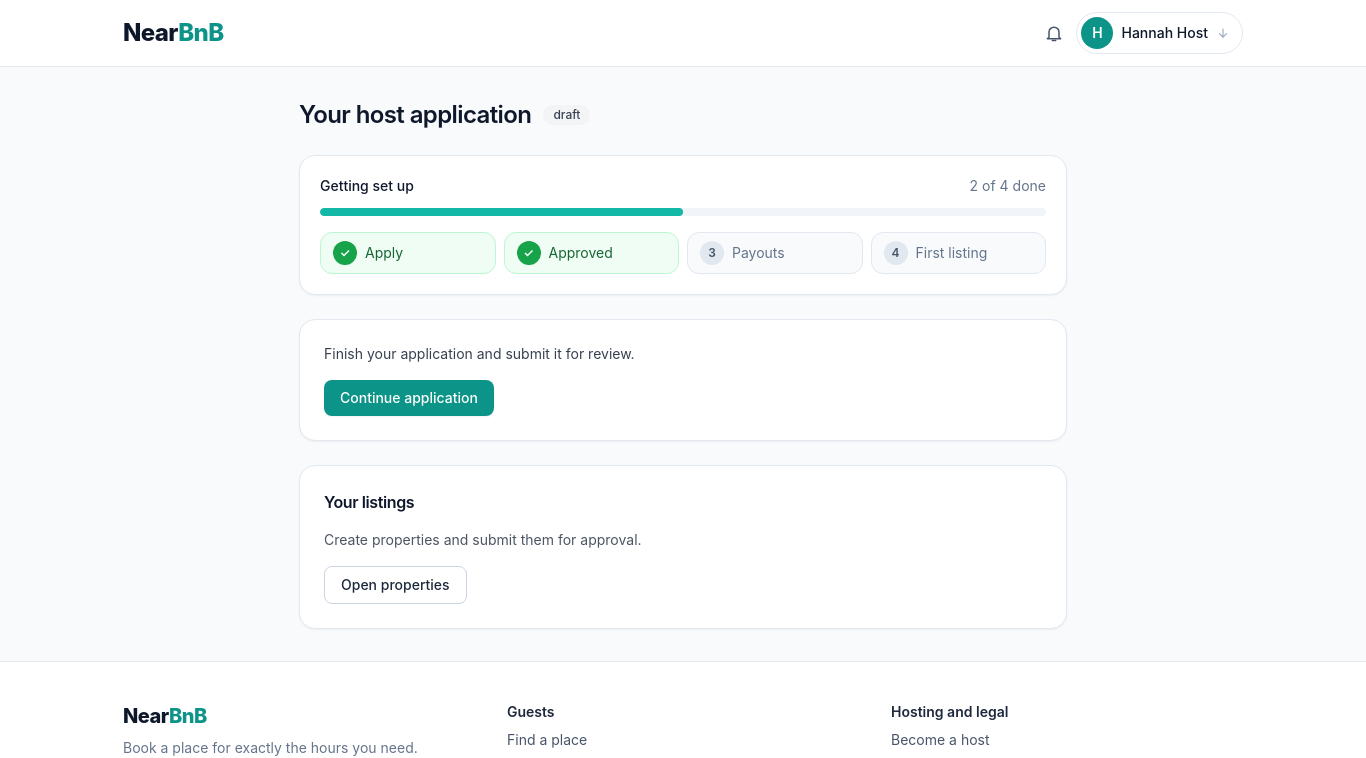
host area shell › keeps an applicant on the public site: their application page, no host sidebar, no dashboard
The width and height of the screenshot is (1366, 758).
Expected: the heading "Your host application" is shown, [299,99,531,131]
Expected: the element named "Setup progress" is shown, [299,155,1067,295]
Click the button with aria-label "Account menu": point(1160, 33) [1076,12,1243,54]
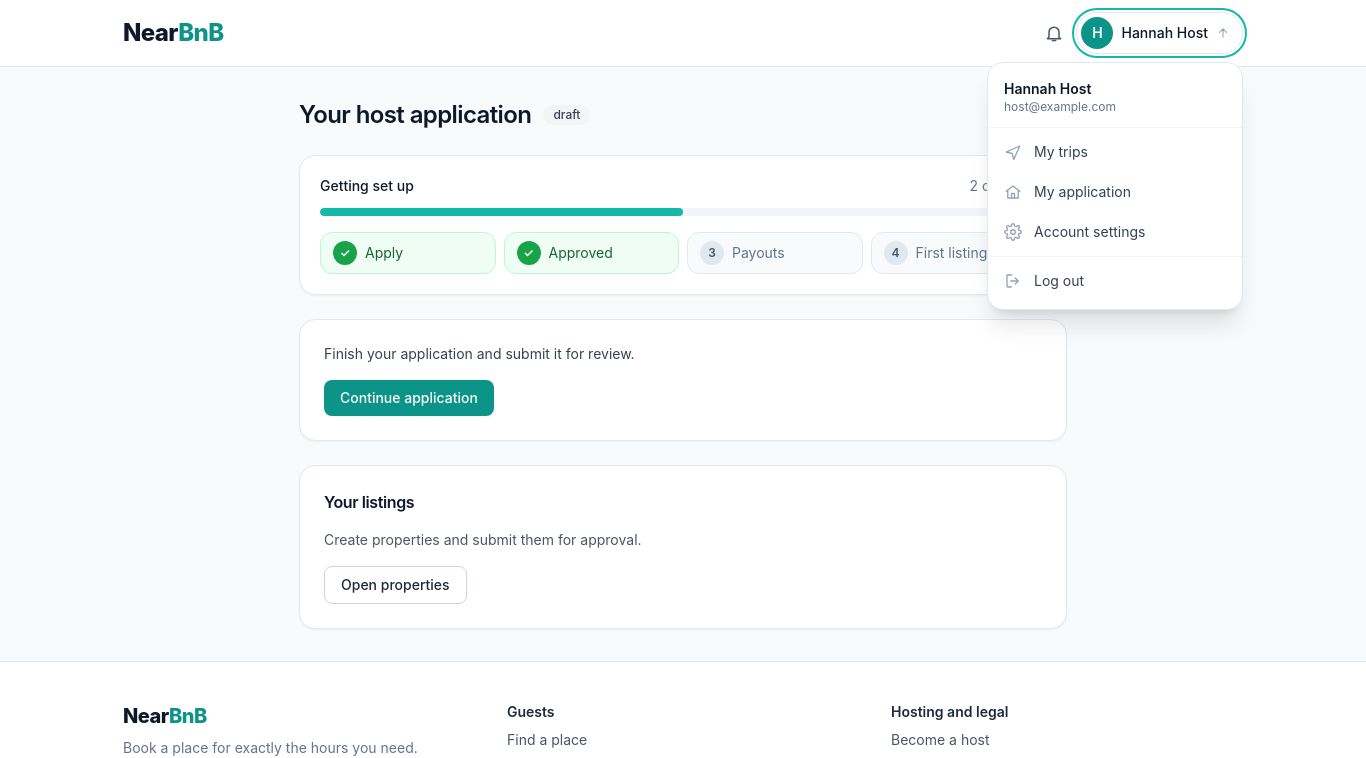
Now the menu item "My application" is shown, box [1004,183,1131,201]
